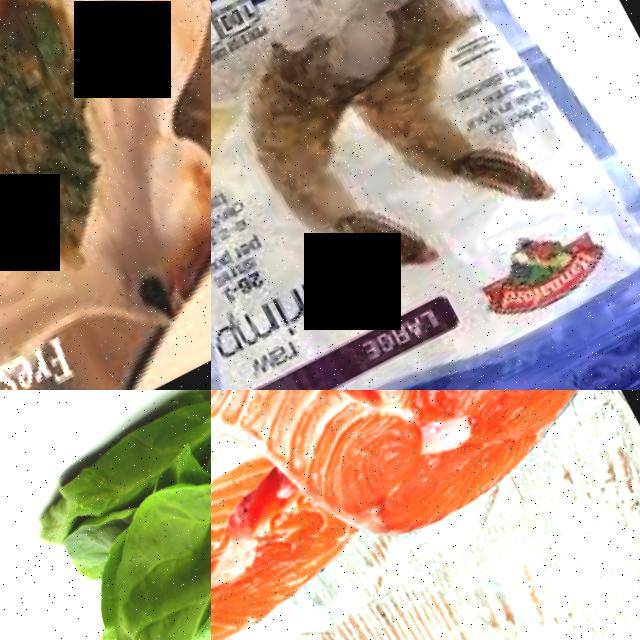salmon: (270, 390, 624, 569), (211, 390, 334, 640)
shrimp: (219, 36, 438, 314), (350, 20, 568, 258)
spinach: (41, 438, 211, 640)
